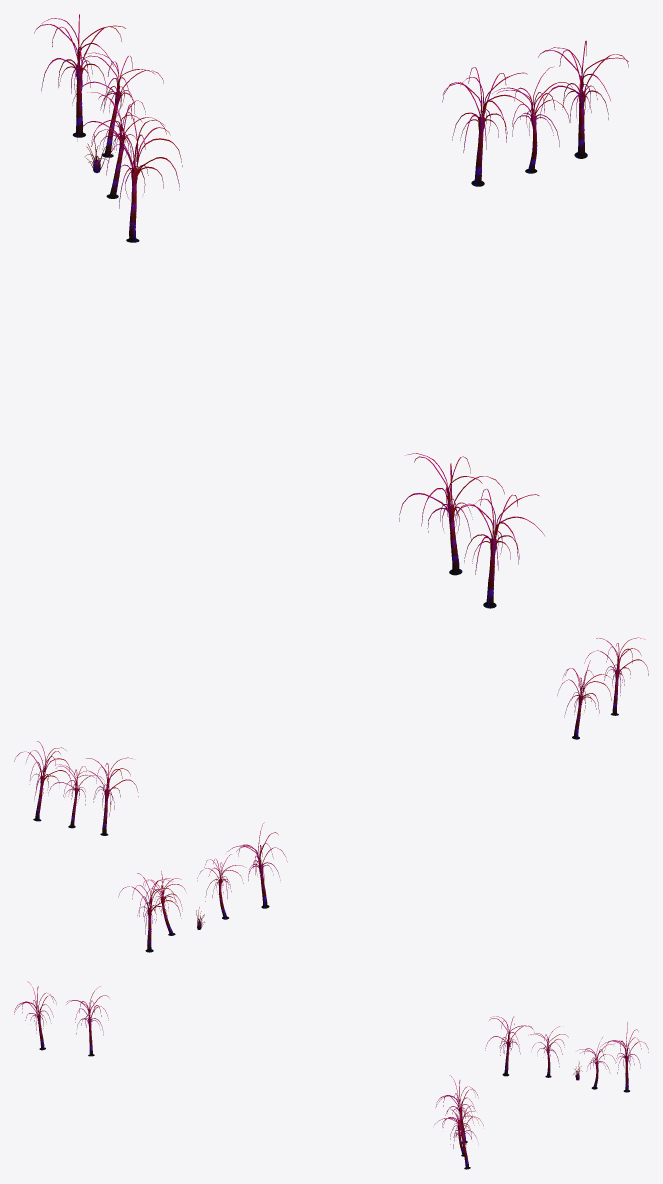
The model's file is n0_lr0_agg_merge_urban_trees_barks01_medium_animated_0.glb.
The picture shows the model from 3 angles, top to bottom: view 1: azimuth 30°, elevation 25°; view 2: azimuth 150°, elevation 25°; view 3: azimuth 270°, elevation 25°; orthographic projection. The views are drawn at different scales.
Parts seen in each view (by area): view 1: maps\de_mirage\worldnodes\n0_lr0_agg_merge_urban_trees_barks; view 2: maps\de_mirage\worldnodes\n0_lr0_agg_merge_urban_trees_barks; view 3: maps\de_mirage\worldnodes\n0_lr0_agg_merge_urban_trees_barks.
Boxes of the visible parts, <box> form: maps\de_mirage\worldnodes\n0_lr0_agg_merge_urban_trees_barks: <box>34,14,628,608</box>; maps\de_mirage\worldnodes\n0_lr0_agg_merge_urban_trees_barks: <box>14,637,648,952</box>; maps\de_mirage\worldnodes\n0_lr0_agg_merge_urban_trees_barks: <box>14,981,648,1169</box>.
Size of the model in its own units: 32.19 by 7.24 by 59.17.
